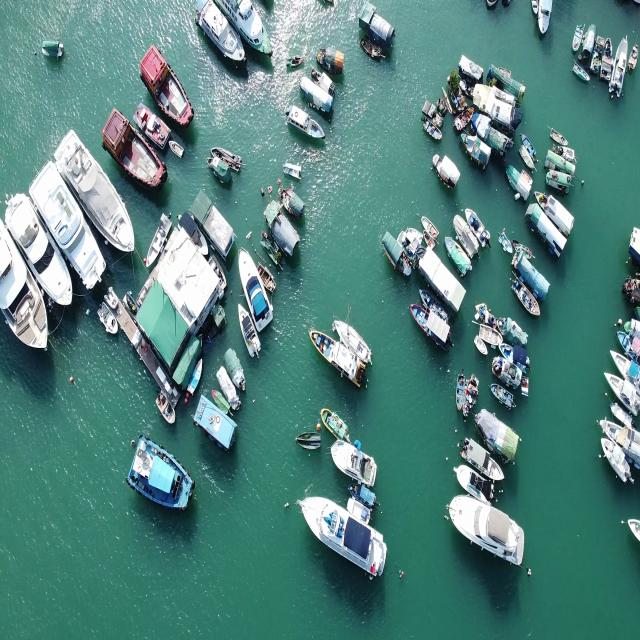ship: (42, 131, 142, 256), (26, 164, 104, 293), (0, 204, 58, 364), (289, 497, 390, 587), (4, 192, 78, 314), (120, 433, 206, 532), (444, 494, 529, 579), (136, 46, 202, 134), (100, 110, 172, 190), (194, 4, 248, 78), (328, 306, 378, 367), (221, 4, 279, 56), (239, 250, 279, 324), (455, 438, 504, 491), (408, 295, 454, 351), (330, 442, 380, 489), (592, 440, 632, 497), (284, 102, 330, 147), (237, 304, 265, 366), (426, 153, 462, 196), (510, 278, 540, 328), (442, 232, 473, 280), (297, 76, 335, 114), (149, 392, 180, 432), (316, 43, 346, 81), (226, 347, 248, 398), (281, 182, 305, 228), (217, 369, 240, 415), (210, 140, 242, 172), (320, 403, 350, 437), (565, 57, 593, 93), (94, 301, 122, 337), (488, 382, 518, 413), (358, 38, 391, 66), (208, 156, 234, 190), (344, 497, 378, 522), (518, 131, 538, 173), (351, 483, 383, 509), (416, 210, 439, 246), (476, 318, 500, 349), (258, 258, 278, 294), (469, 331, 489, 360), (421, 118, 442, 144), (290, 432, 324, 448), (456, 363, 464, 421), (280, 160, 300, 180), (168, 137, 186, 157), (287, 52, 303, 68)
